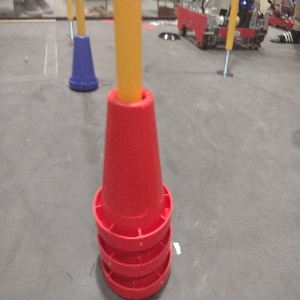Blue_1: (66, 35, 99, 92)
Red_3: (92, 85, 173, 299)
